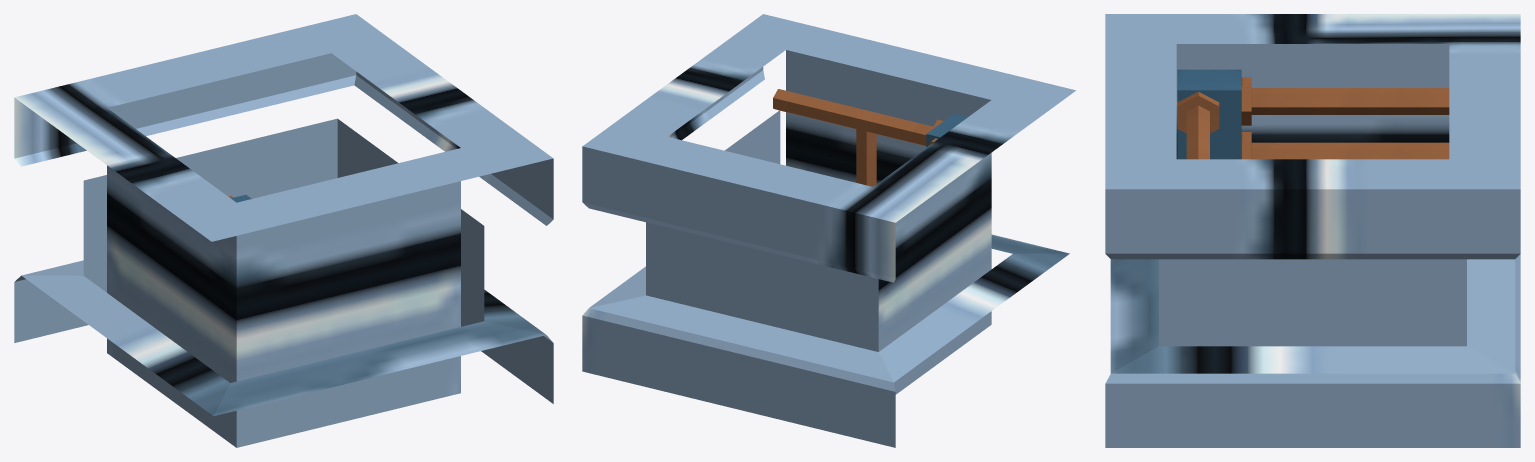
Rendered from JC_ModPanels_UniqueTile_I.obj.
The picture shows the model from 3 angles, left to right: view 1: azimuth 30°, elevation 25°; view 2: azimuth 150°, elevation 25°; view 3: azimuth 270°, elevation 25°; orthographic projection. The views are drawn at different scales.
Parts seen in each view (by area): view 1: JC_ModPanels_UniqueTile_I1; view 2: JC_ModPanels_UniqueTile_I1; view 3: JC_ModPanels_UniqueTile_I1.
Boxes of the visible parts, x1,y1,x2,y2 form: JC_ModPanels_UniqueTile_I1: (14,14,553,447); JC_ModPanels_UniqueTile_I1: (582,14,1075,447); JC_ModPanels_UniqueTile_I1: (1105,14,1520,447).
Bounding box in the file's own units: 200 × 137 × 200.
2 materials, 2 textured.
